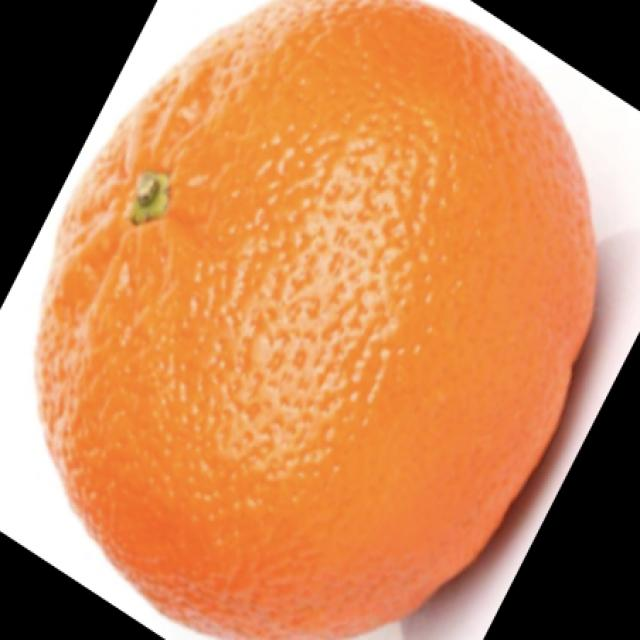fresh: (29, 1, 606, 640)
